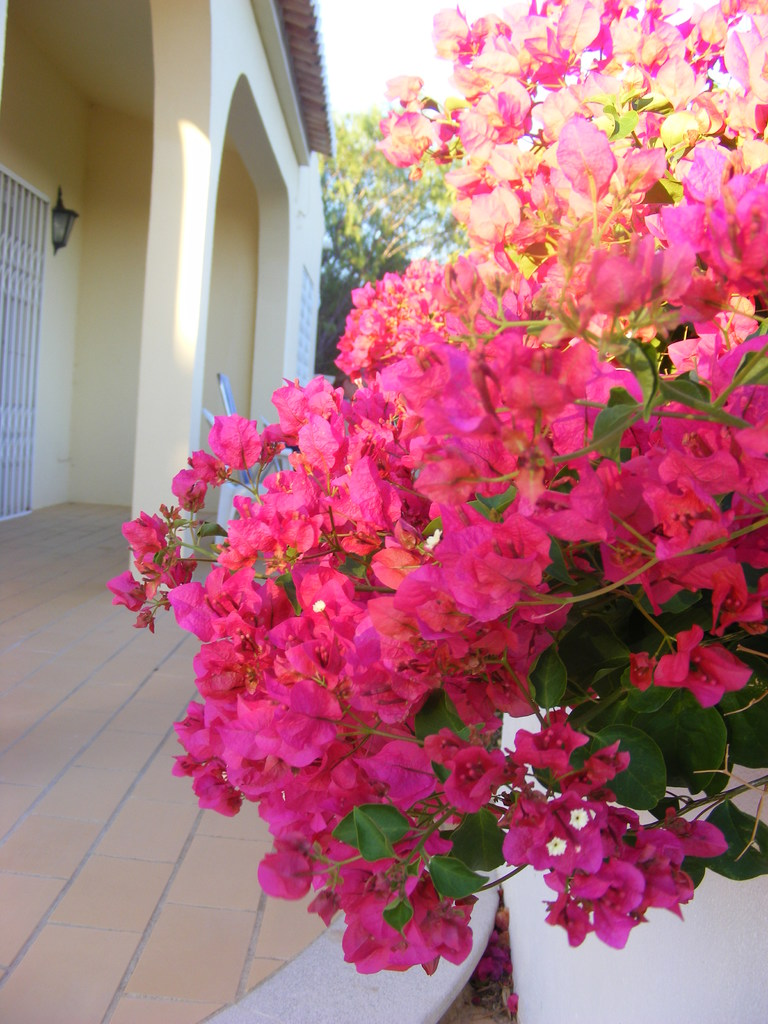Tree: (314, 104, 470, 375)
